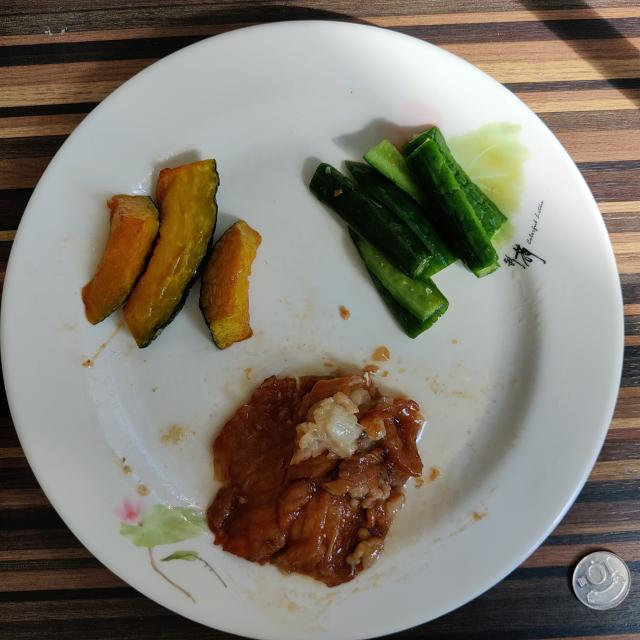Kabayaki sea bream fillet: (206, 372, 422, 586)
coin: (572, 551, 630, 610)
cucumber: (310, 126, 506, 338)
pumpkin: (122, 159, 261, 349), (82, 195, 155, 322)
